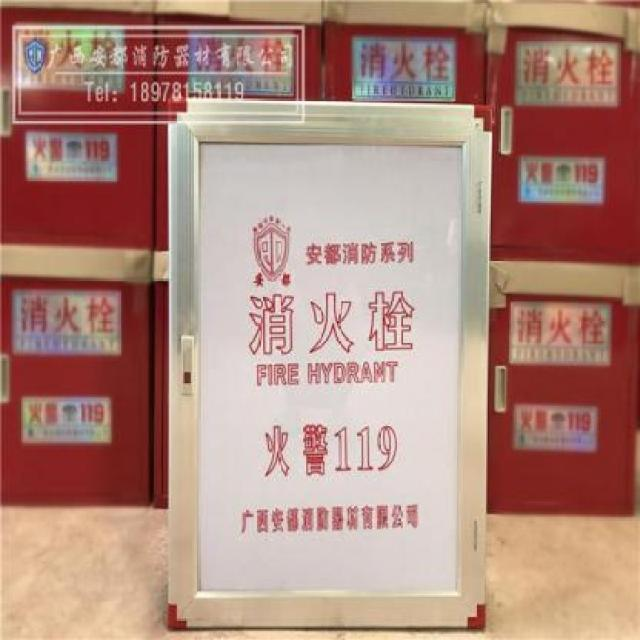firehydrant: (166, 92, 495, 636), (0, 240, 154, 512), (486, 251, 640, 518), (154, 0, 323, 242), (484, 0, 640, 251), (0, 0, 154, 238), (323, 0, 487, 105), (152, 248, 172, 512)
